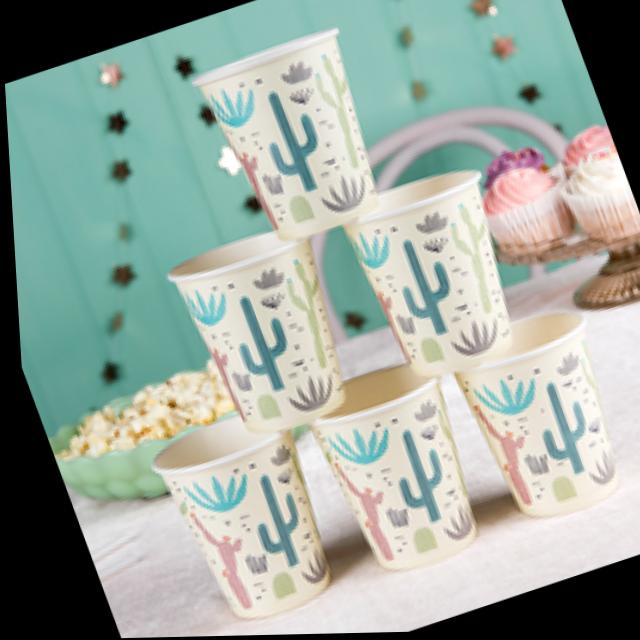paper_cups: (184, 18, 402, 256), (328, 157, 543, 395), (139, 399, 345, 637), (432, 296, 638, 534), (286, 348, 492, 584), (160, 218, 367, 450)
